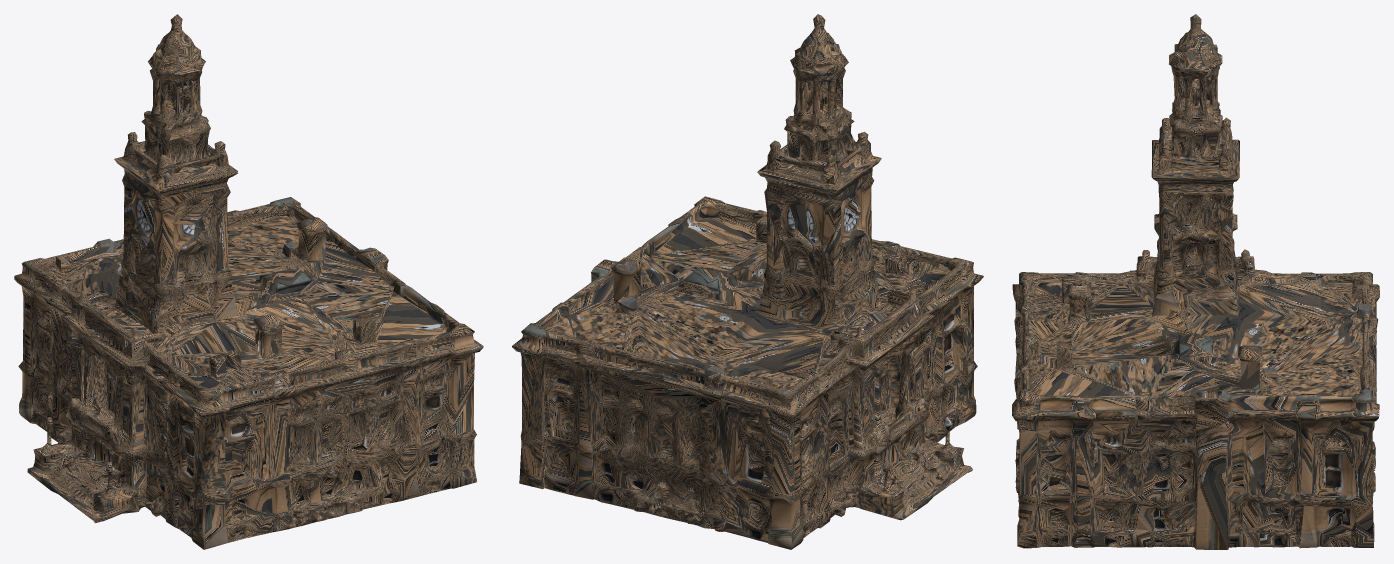
File: semantic-primitive-v02.fbx
3 renders of one model, left to right at view 1: azimuth 30°, elevation 25°; view 2: azimuth 150°, elevation 25°; view 3: azimuth 270°, elevation 25°, orthographic. The views are drawn at different scales.
Parts seen in each view (by area): view 1: CF_PROXY_BUILDING_GENERATED; view 2: CF_PROXY_BUILDING_GENERATED; view 3: CF_PROXY_BUILDING_GENERATED.
Boxes of the visible parts, x1,y1,x2,y2 form: CF_PROXY_BUILDING_GENERATED: (14, 14, 483, 549); CF_PROXY_BUILDING_GENERATED: (512, 14, 983, 549); CF_PROXY_BUILDING_GENERATED: (1012, 14, 1379, 549).
Size of the model in its own units: 2602 by 3412 by 2594.
